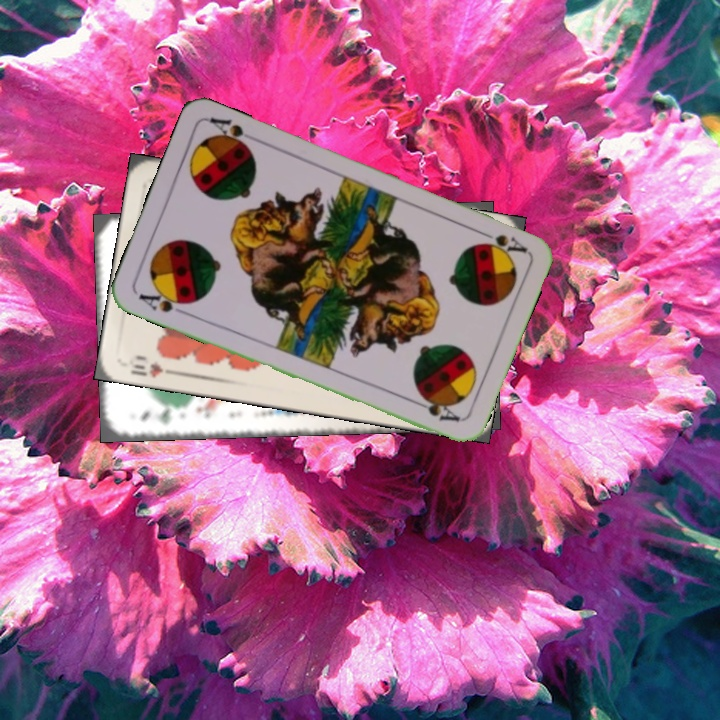GK: (135, 405, 175, 425)
H10: (126, 351, 180, 380)
SA: (134, 285, 194, 318), (472, 225, 529, 258)
